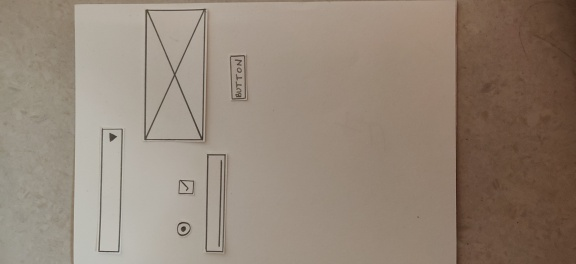button: (232, 56, 248, 99)
checkbox: (177, 180, 195, 193)
dropdown: (98, 126, 119, 253)
img: (143, 10, 201, 139)
radio: (175, 217, 195, 241)
text: (205, 155, 225, 249)
